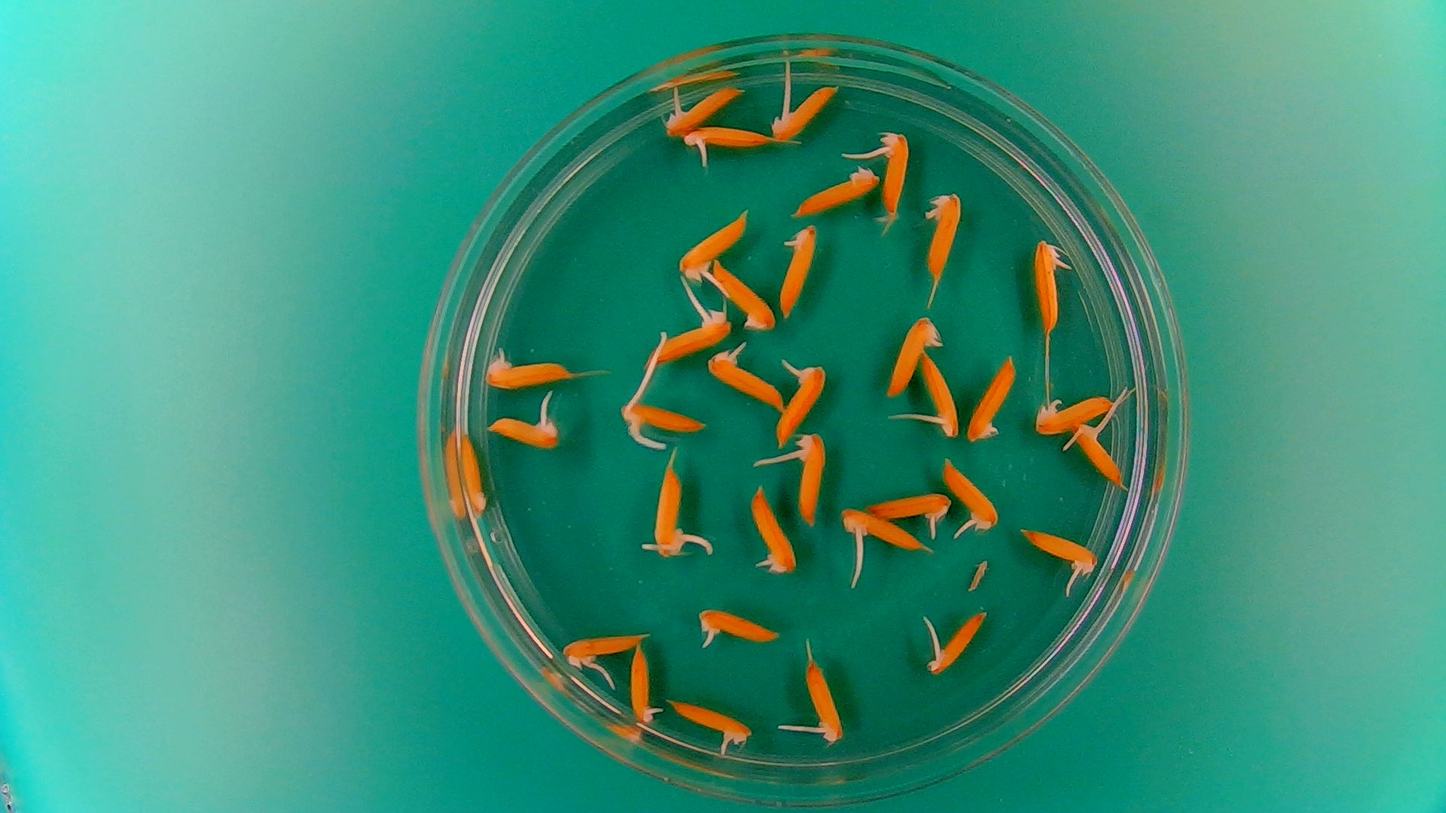no: (790, 160, 881, 216), (710, 260, 779, 333), (966, 352, 1017, 443), (456, 427, 491, 518)
yes: (747, 480, 798, 578), (884, 312, 941, 399), (941, 455, 1002, 533), (661, 81, 746, 136), (645, 313, 733, 366), (679, 212, 749, 278), (775, 364, 829, 448), (923, 607, 987, 677), (767, 81, 840, 142), (776, 220, 821, 318), (709, 352, 783, 410), (1067, 417, 1125, 487), (922, 186, 964, 280), (873, 125, 913, 222), (840, 510, 926, 555), (694, 604, 781, 648), (918, 349, 961, 438), (1022, 523, 1097, 574), (649, 462, 688, 560), (1032, 391, 1116, 435), (621, 397, 709, 438), (792, 428, 829, 525), (674, 701, 751, 746), (804, 661, 845, 744), (863, 489, 954, 524), (626, 642, 660, 730), (563, 636, 648, 671), (480, 359, 569, 392), (1031, 233, 1060, 333), (488, 416, 560, 450), (685, 126, 773, 153)
